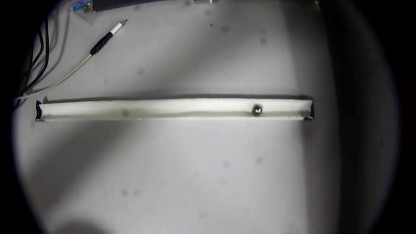gangzhu: (250, 102, 263, 116)
